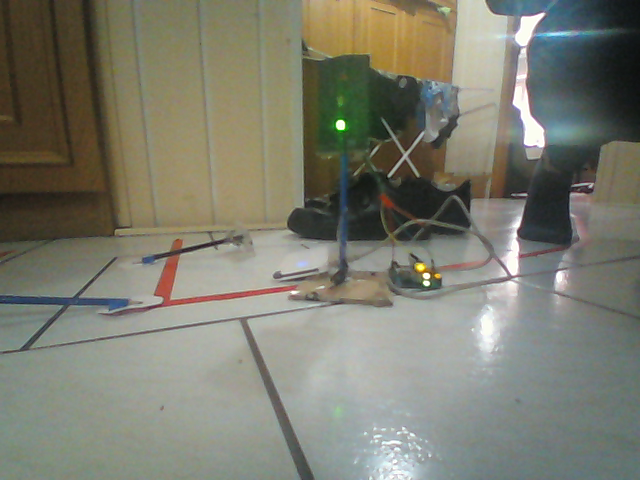green_sign: (311, 58, 375, 152)
